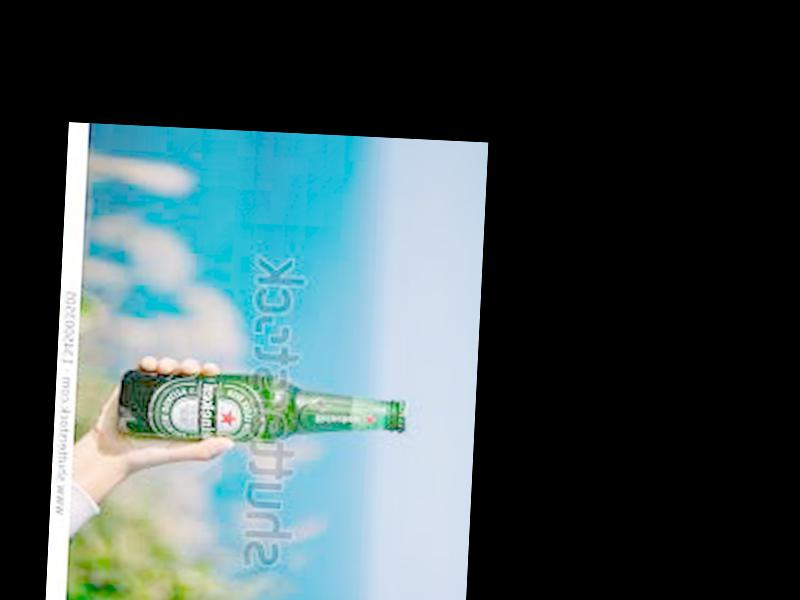Beer: (120, 369, 409, 454)
